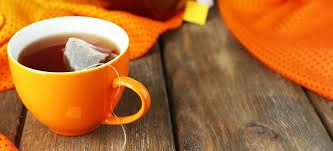cup: (5, 15, 154, 140)
